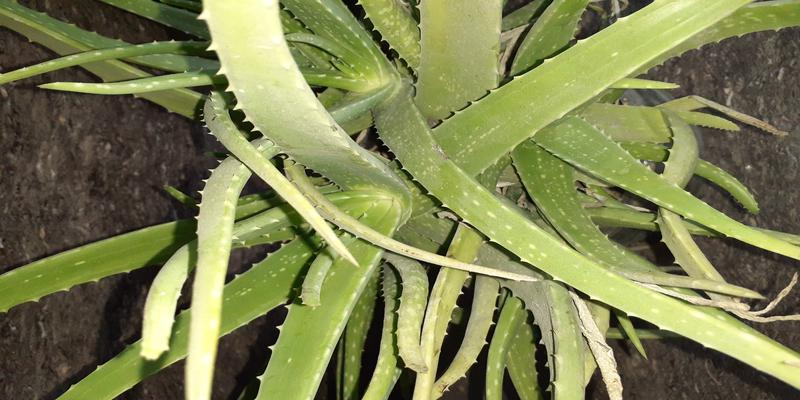Aloevera: (103, 23, 722, 352)
